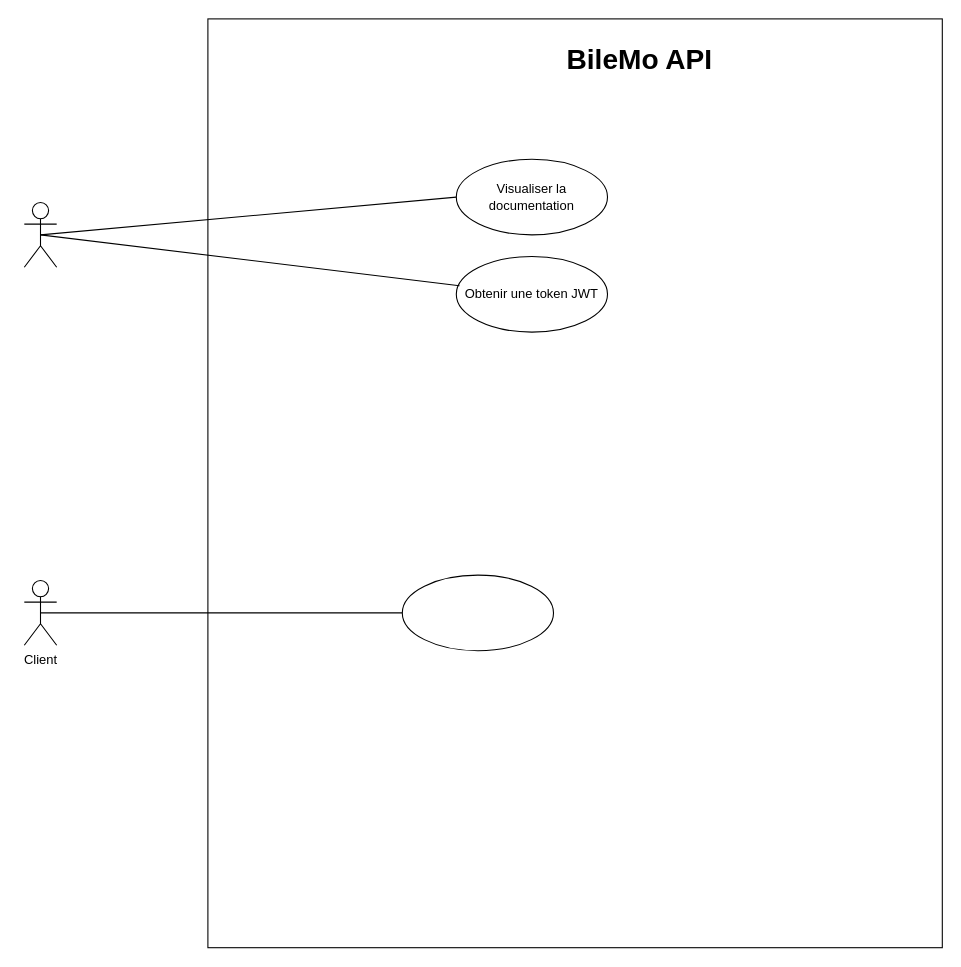
Image size: 961x967. Some labels were removed from this diagram. Each missing label, with the centre of its shape:
"Consuler le détail d'un produit" goes at pixel 477 612.
"Visiteur" goes at pixel 40 234.
